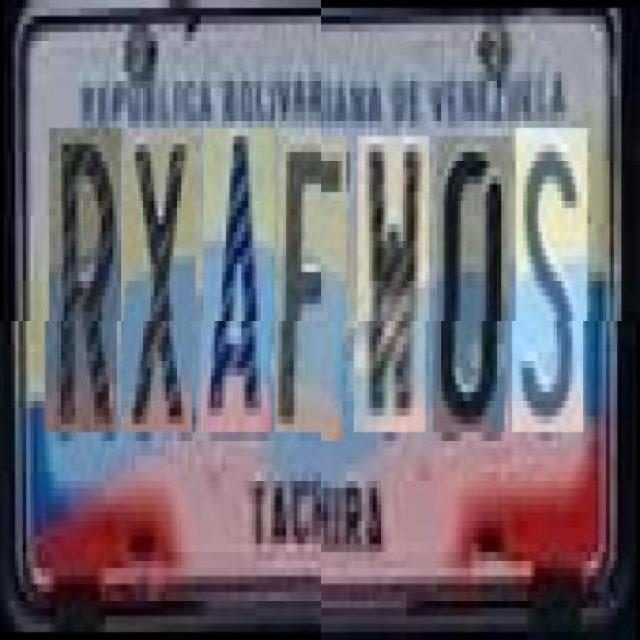0: (436, 136, 509, 432)
a: (203, 135, 275, 440)
f: (279, 135, 346, 440)
r: (48, 135, 121, 440)
s: (515, 128, 588, 432)
w: (358, 136, 430, 432)
x: (124, 135, 196, 440)
